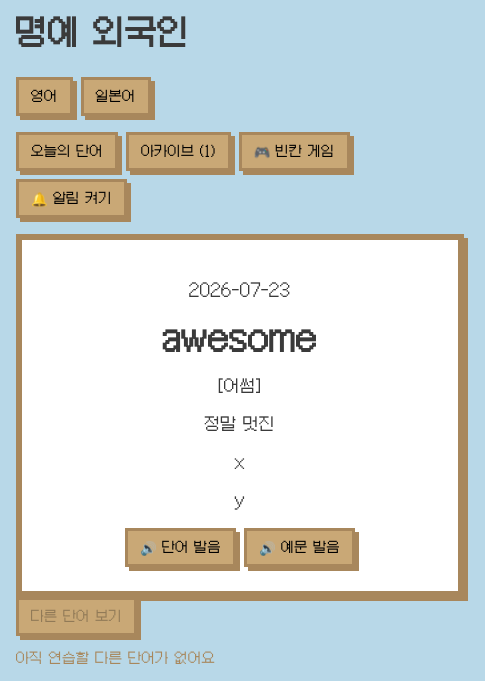
App › shows the Japanese archive count after switching language
The image size is (485, 681).
Check: the button "아카이브 (1)" is shown, box [126, 132, 231, 171]
What coordinates should you click on to do the following:
click the button "일본어"
I would click on:
 (116, 96)
Its box is [81, 77, 151, 116].
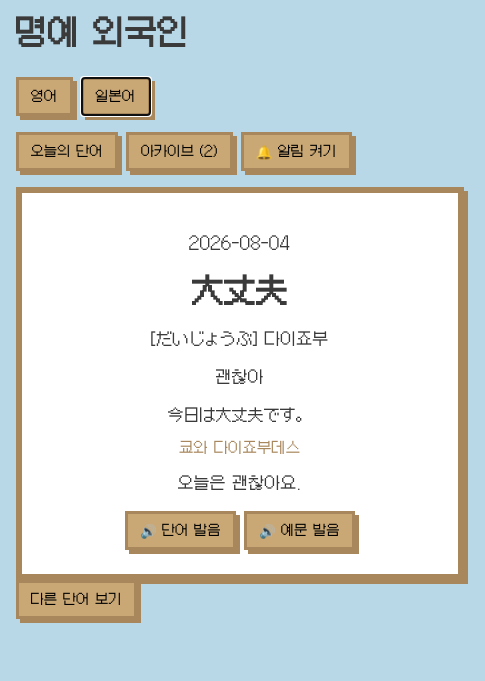
Check: the button "아카이브 (2)" is shown, box [126, 132, 233, 171]
